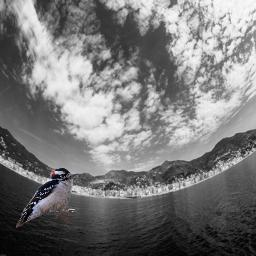Woodpecker: (16, 168, 78, 228)
